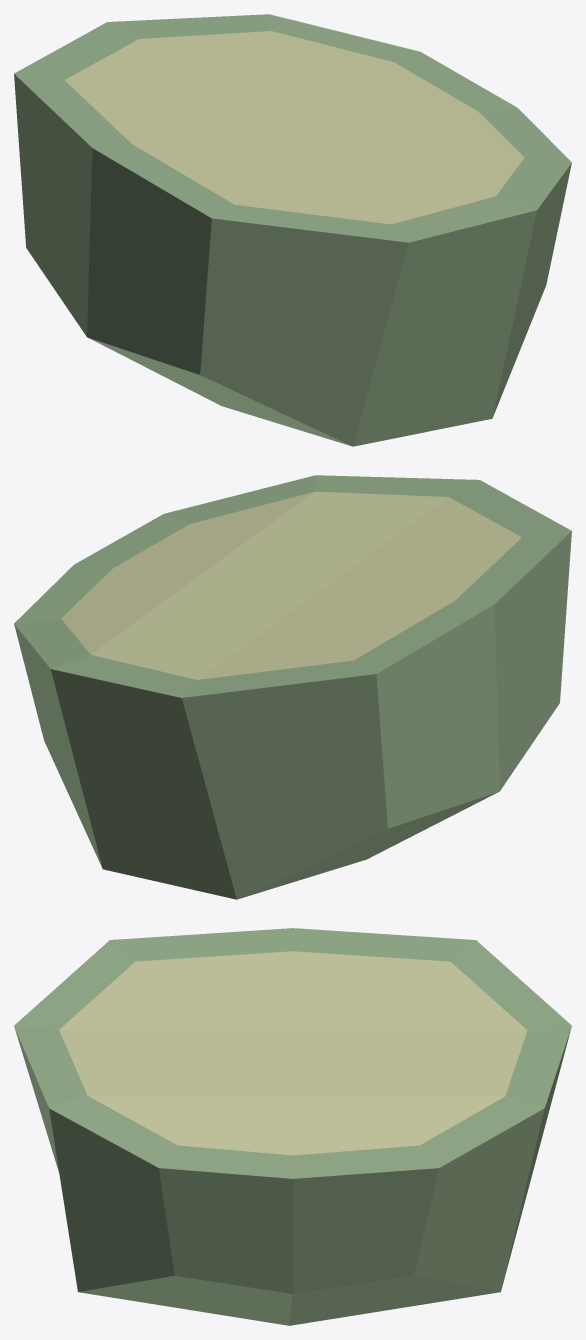
The model's file is cabbageHalf.fbx.
3 views of the same model, one above another, from view 1: azimuth 30°, elevation 25°; view 2: azimuth 150°, elevation 25°; view 3: azimuth 270°, elevation 25° (orthographic). The views are drawn at different scales.
Visible parts, largest first — view 1: cabbageHalf; view 2: cabbageHalf; view 3: cabbageHalf.
Boxes of the visible parts, box(x1,y1,x2,y2) form: cabbageHalf: box(14, 14, 571, 446); cabbageHalf: box(14, 475, 571, 899); cabbageHalf: box(14, 928, 571, 1325).
Bounding box in the file's own units: 15.43 × 10.06 × 18.7.
Materials: 1 (1 with a texture image).
